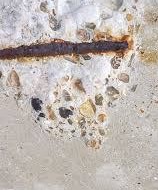Exposed reinforcement: (1, 40, 129, 59)
Spalling: (1, 1, 139, 151)
